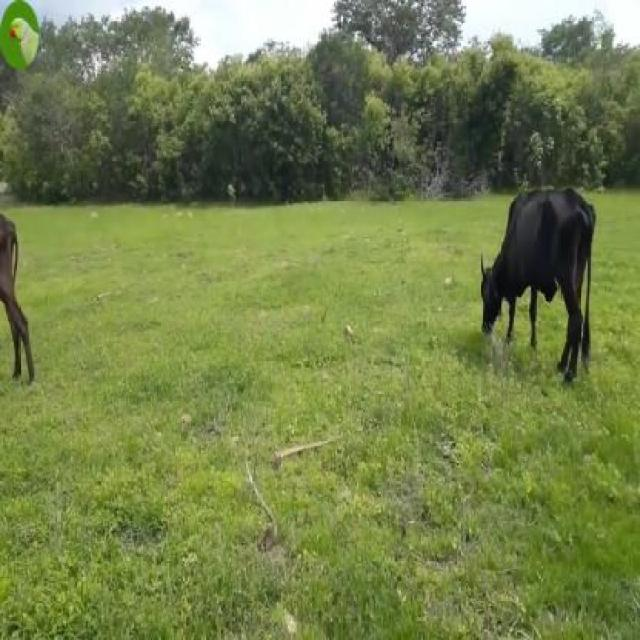Cow: (478, 190, 597, 378)
